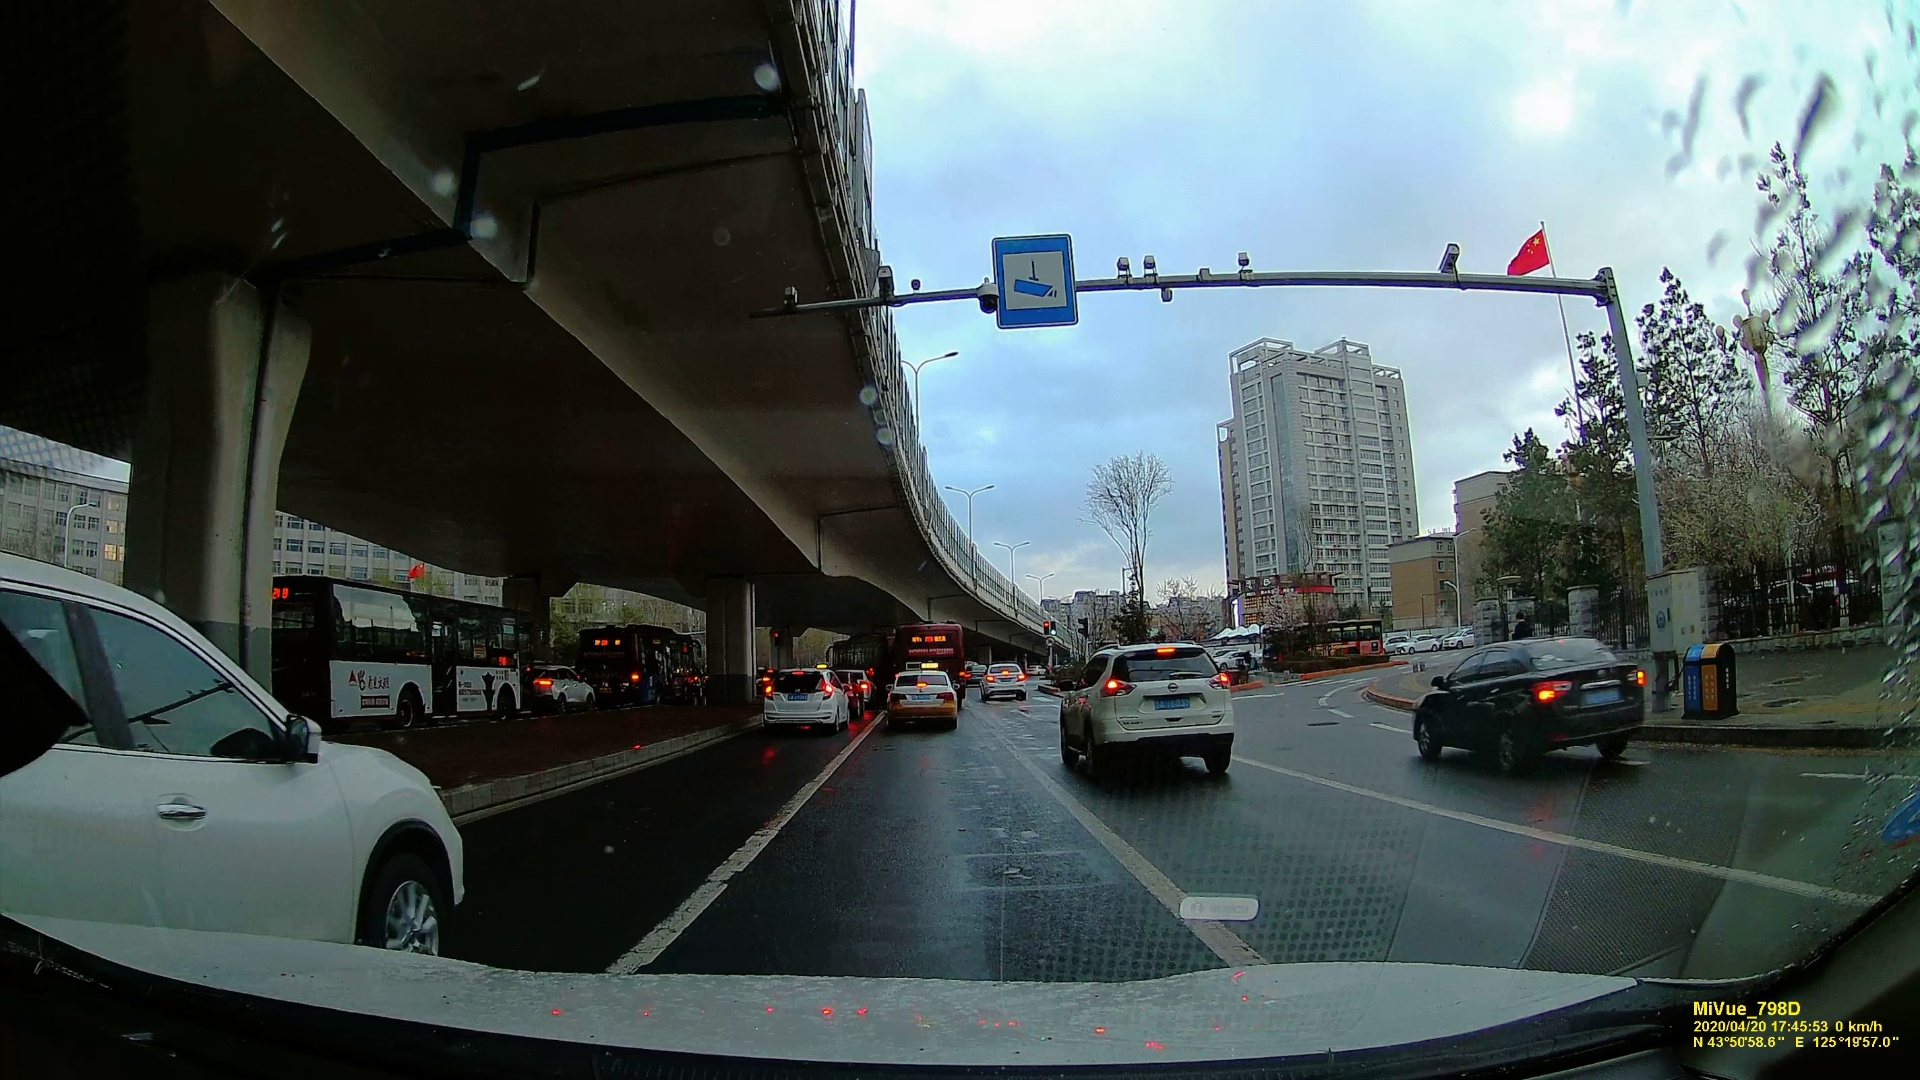bus: (273, 564, 509, 713), (585, 620, 691, 712)
traffic_sign: (986, 233, 1083, 328), (1044, 618, 1055, 638)
vehicle: (11, 545, 456, 963), (1418, 629, 1654, 775), (1059, 637, 1241, 781), (757, 665, 852, 731), (880, 669, 959, 727), (978, 663, 1029, 700)
